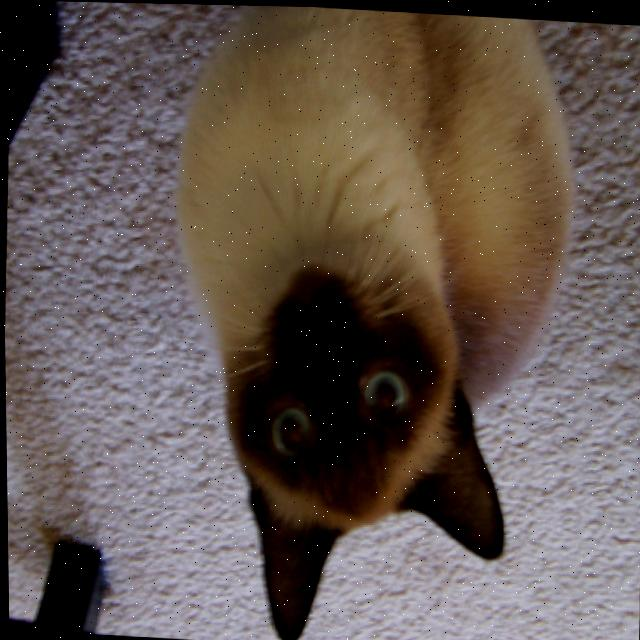Siamese: (152, 3, 591, 640)
